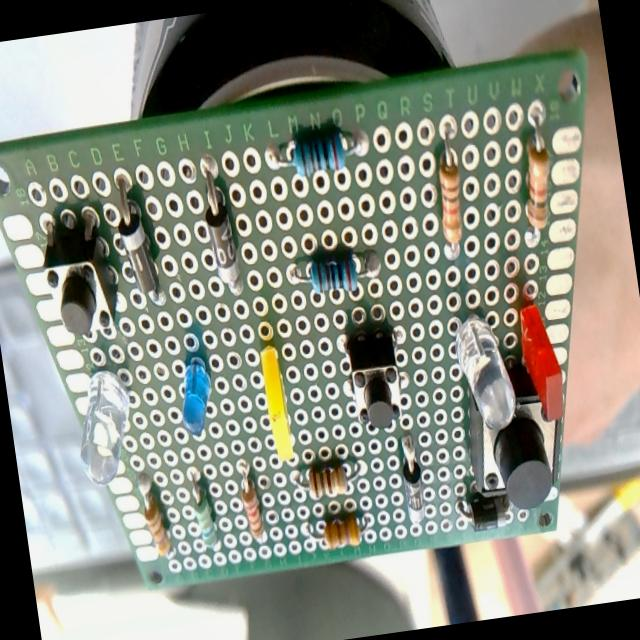diode: (110, 173, 165, 309), (196, 152, 246, 298), (398, 432, 430, 526), (456, 492, 514, 534)
led: (68, 366, 142, 489), (451, 308, 518, 436), (514, 300, 570, 414), (258, 340, 296, 464), (173, 354, 218, 440)
resistor: (426, 130, 472, 260), (264, 126, 370, 182), (288, 248, 382, 298), (516, 135, 560, 235), (136, 470, 174, 559), (188, 467, 222, 555), (293, 456, 362, 496), (238, 471, 266, 545), (320, 514, 366, 552)
switch: (458, 346, 568, 507), (36, 210, 124, 344), (340, 327, 409, 437)
